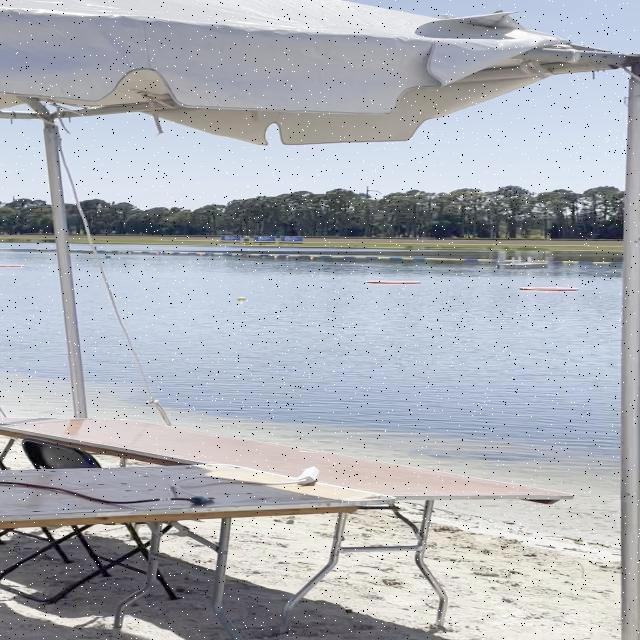buoy: (235, 296, 246, 301), (104, 254, 112, 258)
